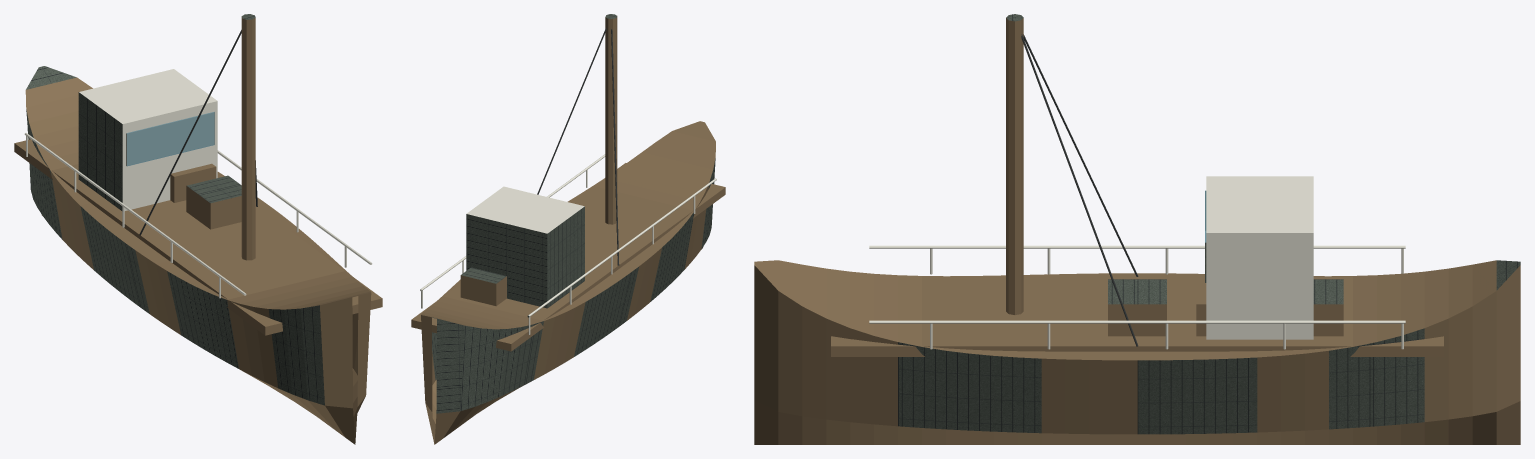
Rendered from damaged1.gltf.
The picture shows the model from 3 angles, left to right: view 1: azimuth 30°, elevation 25°; view 2: azimuth 150°, elevation 25°; view 3: azimuth 270°, elevation 25°; orthographic projection. The views are drawn at different scales.
Parts seen in each view (by area): view 1: britainfishing_damaged1; view 2: britainfishing_damaged1; view 3: britainfishing_damaged1.
Boxes of the visible parts, <box> form: britainfishing_damaged1: <box>14,14,382,444</box>; britainfishing_damaged1: <box>411,14,725,444</box>; britainfishing_damaged1: <box>754,14,1520,444</box>.
Bounding box in the file's own units: 11.2 × 25.62 × 41.6.
Materials: 5 (1 with a texture image).
